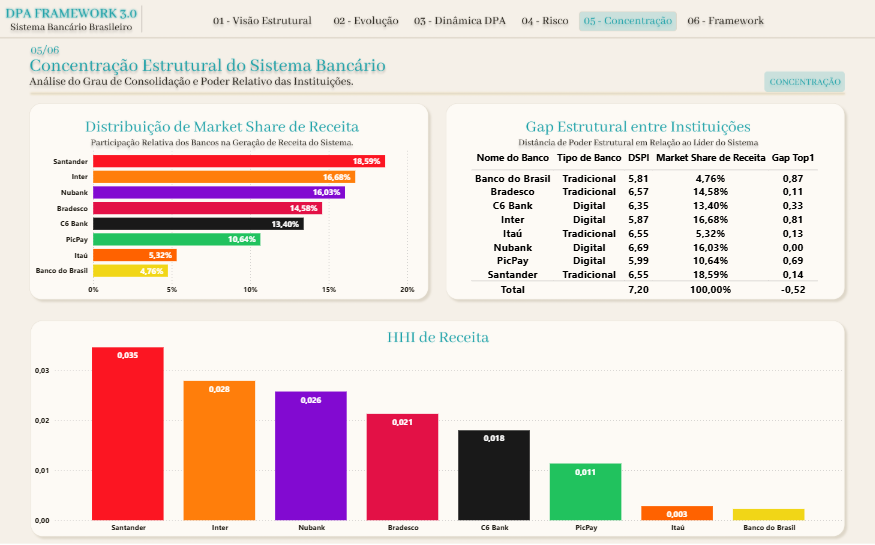

What the dashboard file says about the page in this screenshot:
{"tool":"powerbi","page":{"name":"Concentração","canvas":[1460,909],"ordinal":4},"visuals":[{"type":"barChart","fields":{"Category":["dim_banco_v2.nome_banco"],"Y":["fato_financeiro_v2.Market Share Receita"]},"box":[52.5,235,658.8,266.2],"z":0},{"type":"columnChart","fields":{"Category":["dim_banco_v2.nome_banco"],"Y":["fato_financeiro_v2.HHI Receita"]},"box":[52.5,537.5,1356.2,358.8],"z":1000},{"type":"tableEx","fields":{"Values":["dim_banco_v2.nome_banco","dim_banco_v2.tipo_banco","fato_financeiro_v2.DSPI","fato_financeiro_v2.Market Share Receita","fato_financeiro_v2.Gap Top1"]},"box":[780,246.2,592.5,255],"z":2000},{"type":"pageNavigator","box":[342.5,12.5,933.8,48.8],"z":3000}]}

Visuals, with their boxes in screenshot pixels (x1, y1, x2, y2), scaled from the page's 1460x909 canvas onto the 875x545 screenshot:
barChart - dim_banco_v2.nome_banco x fato_financeiro_v2.Market Share Receita: BBox(31, 141, 426, 300)
columnChart - dim_banco_v2.nome_banco x fato_financeiro_v2.HHI Receita: BBox(31, 322, 844, 537)
tableEx - dim_banco_v2.nome_banco x dim_banco_v2.tipo_banco: BBox(467, 148, 823, 300)
pageNavigator: BBox(205, 7, 765, 37)
